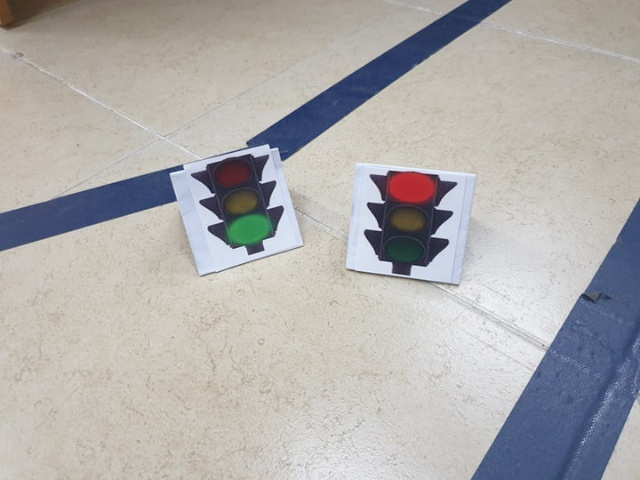Green: (192, 159, 284, 258)
Red: (366, 168, 453, 277)
